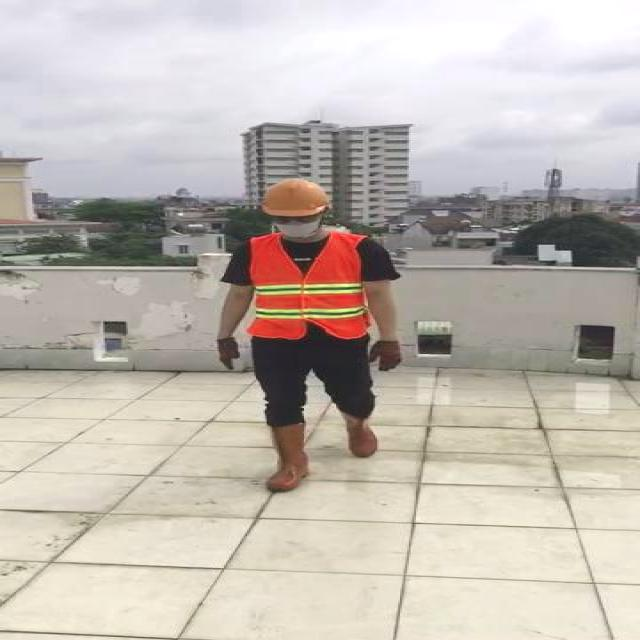boots: (263, 419, 309, 492), (341, 409, 379, 458)
face_mask: (270, 208, 324, 240)
glasses: (263, 210, 325, 228)
hand_glove: (368, 341, 404, 371), (215, 338, 240, 371)
head_helmet: (260, 174, 334, 218)
person: (205, 171, 415, 504)
vest: (249, 232, 370, 339)
